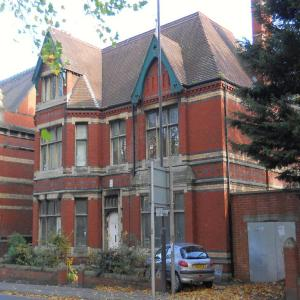Vehicle-registration-plate: (195, 266, 206, 270)
